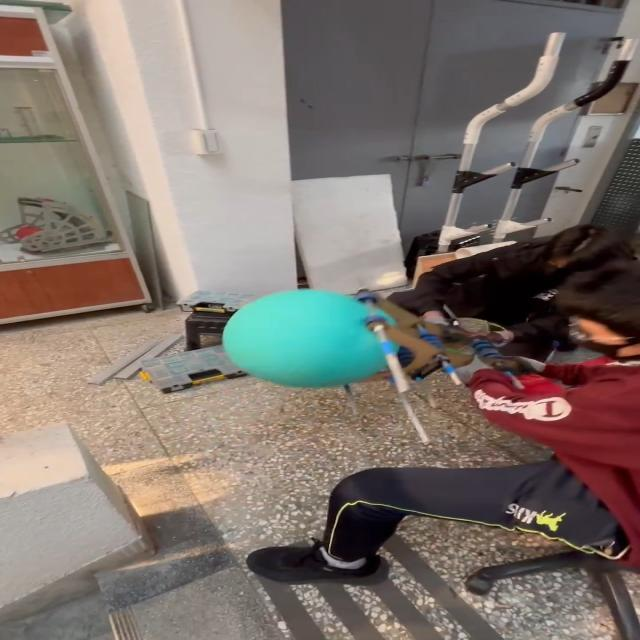ALGAE: (219, 287, 399, 389)
